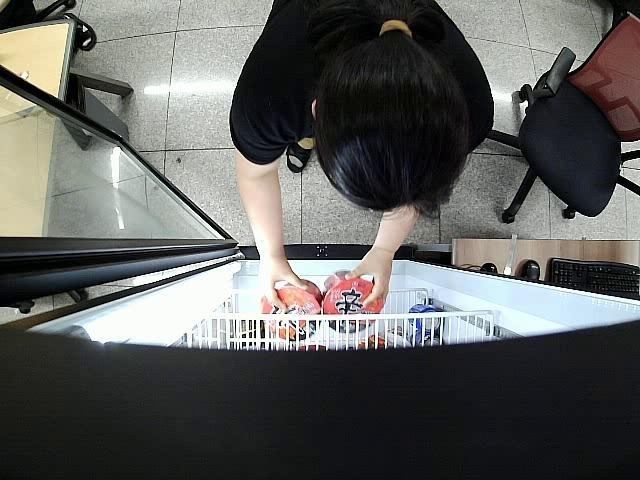01_ShinRamen_L: (322, 270, 383, 334), (264, 278, 322, 343)
